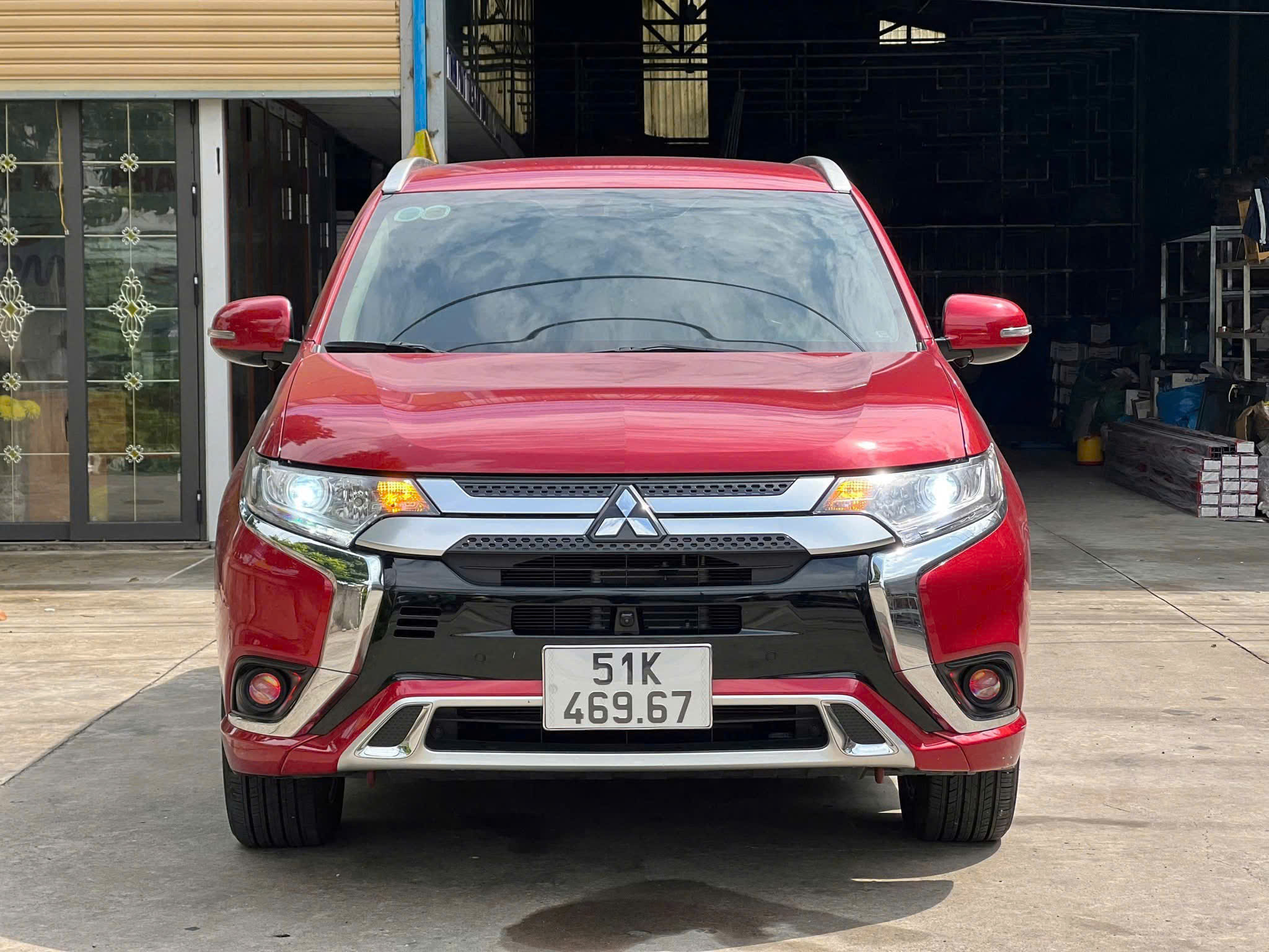Bien-so: (537, 644, 722, 732)
